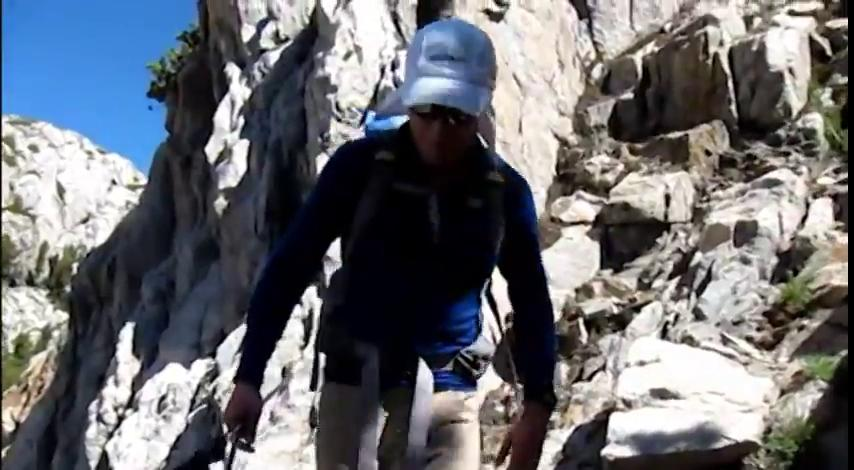victim: (220, 10, 566, 462)
